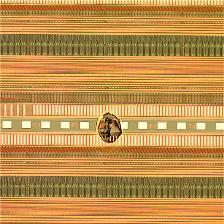PARTICLE: (96, 111, 126, 145)
